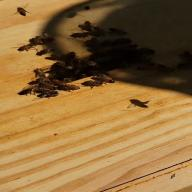Bee: (120, 93, 156, 109), (11, 3, 31, 20), (62, 81, 82, 93), (16, 44, 36, 53)
